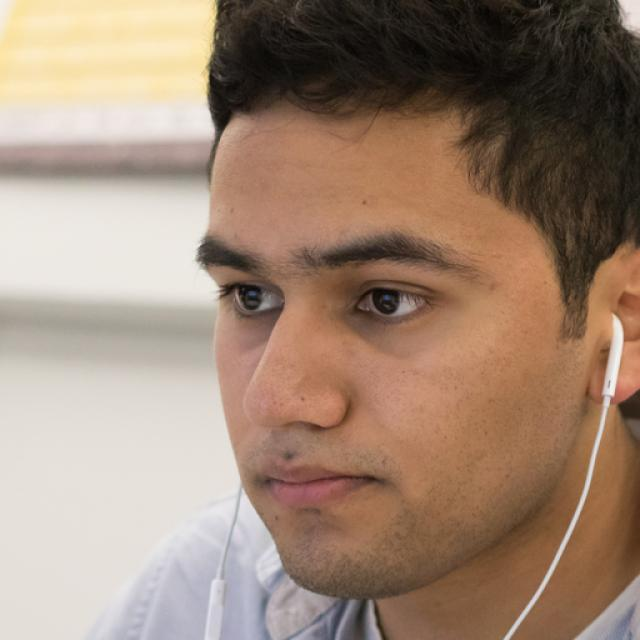neutral: (193, 77, 588, 600)
